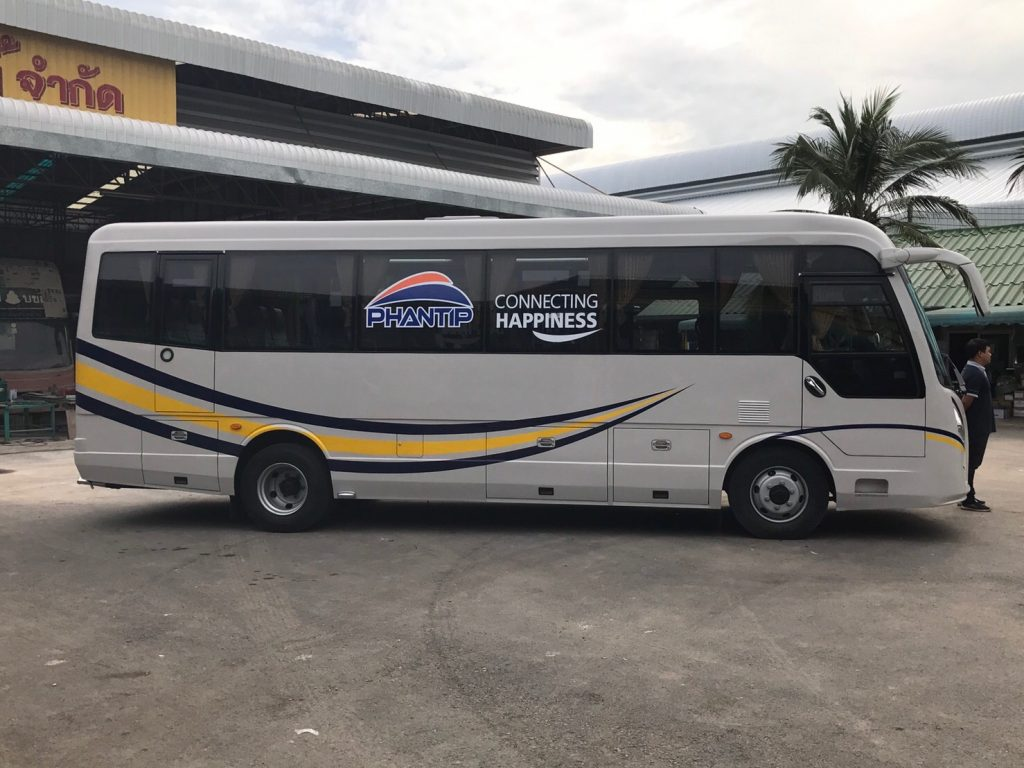bus: (71, 208, 975, 536)
